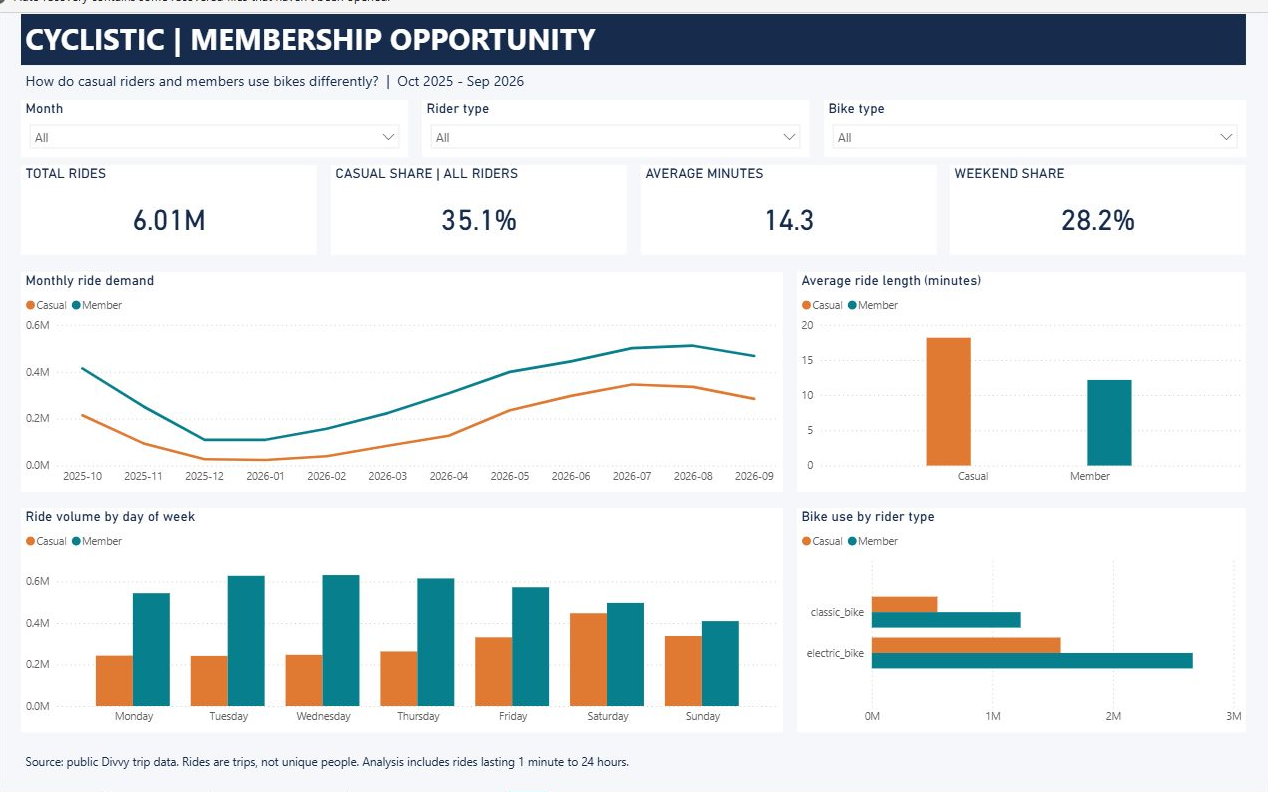

Layout of this report page (visuals, bound fields, positions):
{"tool":"powerbi","page":{"name":"01 Overview","canvas":[1440,900],"ordinal":0},"visuals":[{"type":"textbox","box":[24,16,1392,58],"z":0},{"type":"textbox","box":[24,76,1392,37],"z":1},{"type":"slicer","title":"Month","fields":{"Values":["Month.Month"]},"box":[24,114,440,65],"z":2},{"type":"slicer","title":"Rider type","fields":{"Values":["Rider.Rider"]},"box":[480,114,440,65],"z":3},{"type":"slicer","title":"Bike type","fields":{"Values":["Bike.Bike"]},"box":[936,114,480,65],"z":4},{"type":"card","title":"TOTAL RIDES","fields":{"Values":["Trips.Total Rides"]},"box":[24,187,336,102],"z":5},{"type":"card","title":"CASUAL SHARE | ALL RIDERS","fields":{"Values":["Trips.Casual Ride Share"]},"box":[376,187,336,102],"z":6},{"type":"card","title":"AVERAGE MINUTES","fields":{"Values":["Trips.Average Ride Minutes"]},"box":[728,187,336,102],"z":7},{"type":"card","title":"WEEKEND SHARE","fields":{"Values":["Trips.Weekend Ride Share"]},"box":[1080,187,336,102],"z":8},{"type":"lineChart","title":"Monthly ride demand","fields":{"Category":["Month.Month"],"Y":["Trips.Total Rides"],"Series":["Rider.Rider"]},"box":[24,309,866,250],"z":9},{"type":"clusteredColumnChart","title":"Average ride length (minutes)","fields":{"Category":["Rider.Rider"],"Y":["Trips.Average Ride Minutes"],"Series":["Rider.Rider"]},"box":[906,309,510,250],"z":10},{"type":"clusteredColumnChart","title":"Ride volume by day of week","fields":{"Category":["Trips.Weekday"],"Y":["Trips.Total Rides"],"Series":["Rider.Rider"]},"box":[24,577,866,255],"z":11},{"type":"clusteredBarChart","title":"Bike use by rider type","fields":{"Category":["Bike.Bike"],"Y":["Trips.Total Rides"],"Series":["Rider.Rider"]},"box":[906,577,510,255],"z":12},{"type":"textbox","box":[24,851,1392,34],"z":13}]}

Visuals, with their boxes in screenshot pixels (x1, y1, x2, y2), scaled from the page's 1440x900 canvas onto the 1268x792 screenshot:
textbox: box(21, 14, 1247, 65)
textbox: box(21, 67, 1247, 99)
"Month" slicer: box(21, 100, 409, 158)
"Rider type" slicer: box(423, 100, 810, 158)
"Bike type" slicer: box(824, 100, 1247, 158)
"TOTAL RIDES" card: box(21, 165, 317, 254)
"CASUAL SHARE | ALL RIDERS" card: box(331, 165, 627, 254)
"AVERAGE MINUTES" card: box(641, 165, 937, 254)
"WEEKEND SHARE" card: box(951, 165, 1247, 254)
"Monthly ride demand" lineChart: box(21, 272, 784, 492)
"Average ride length (minutes)" clusteredColumnChart: box(798, 272, 1247, 492)
"Ride volume by day of week" clusteredColumnChart: box(21, 508, 784, 732)
"Bike use by rider type" clusteredBarChart: box(798, 508, 1247, 732)
textbox: box(21, 749, 1247, 779)
